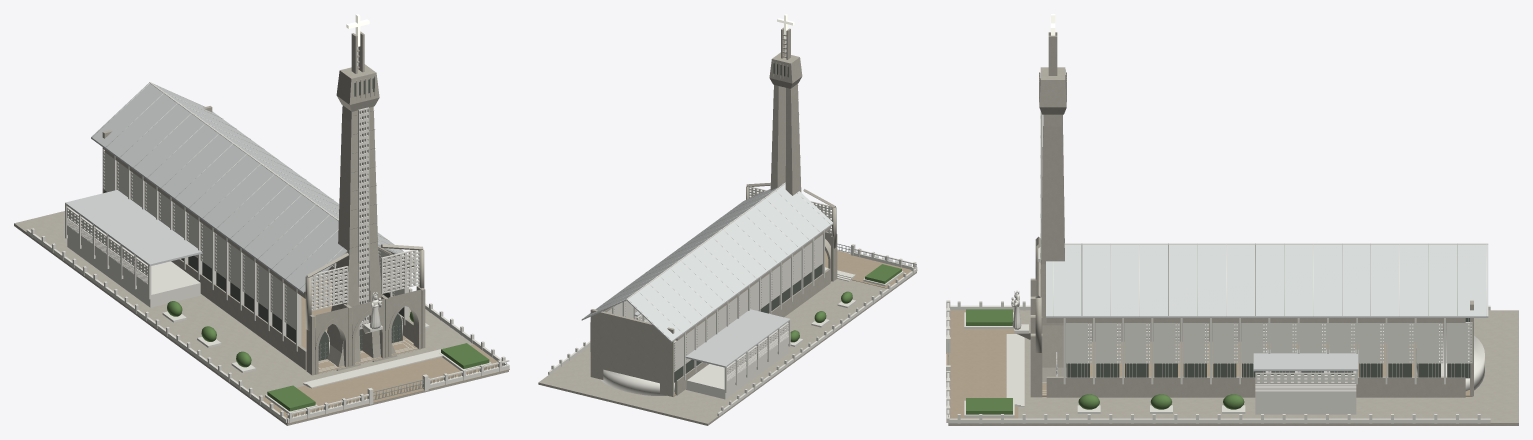
File: long-xuyen-cathedral.glb
3 views of the same model, side by side, from view 1: azimuth 30°, elevation 25°; view 2: azimuth 150°, elevation 25°; view 3: azimuth 270°, elevation 25° (orthographic). The views are drawn at different scales.
Visible parts, largest first — view 1: Cathedral_stone, Cathedral_roof, Cathedral_white, Cathedral_paving, Cathedral_green, Cathedral_dark, Cathedral_metal; view 2: Cathedral_stone, Cathedral_roof, Cathedral_white, Cathedral_paving, Cathedral_dark, Cathedral_green; view 3: Cathedral_roof, Cathedral_white, Cathedral_stone, Cathedral_paving, Cathedral_dark, Cathedral_green.
Boxes of the visible parts, box(x1,y1,x2,y2) form: Cathedral_stone: box(14, 31, 508, 425); Cathedral_roof: box(65, 83, 417, 293); Cathedral_white: box(26, 82, 509, 423); Cathedral_paving: box(258, 277, 509, 423); Cathedral_green: box(167, 301, 489, 411); Cathedral_dark: box(104, 78, 403, 360); Cathedral_metal: box(287, 325, 506, 418); Cathedral_stone: box(538, 27, 916, 425); Cathedral_roof: box(581, 182, 833, 367); Cathedral_white: box(548, 182, 917, 416); Cathedral_paving: box(673, 250, 911, 396); Cathedral_dark: box(674, 63, 822, 382); Cathedral_green: box(790, 264, 901, 342); Cathedral_roof: box(1046, 243, 1488, 371); Cathedral_white: box(946, 111, 1490, 423); Cathedral_stone: box(948, 32, 1518, 425); Cathedral_paving: box(946, 310, 1472, 422); Cathedral_dark: box(1040, 116, 1470, 378); Cathedral_green: box(966, 309, 1244, 414).
Bounding box in the file's own units: 37.4 × 55 × 79.33.
8 materials, 2 textured.
